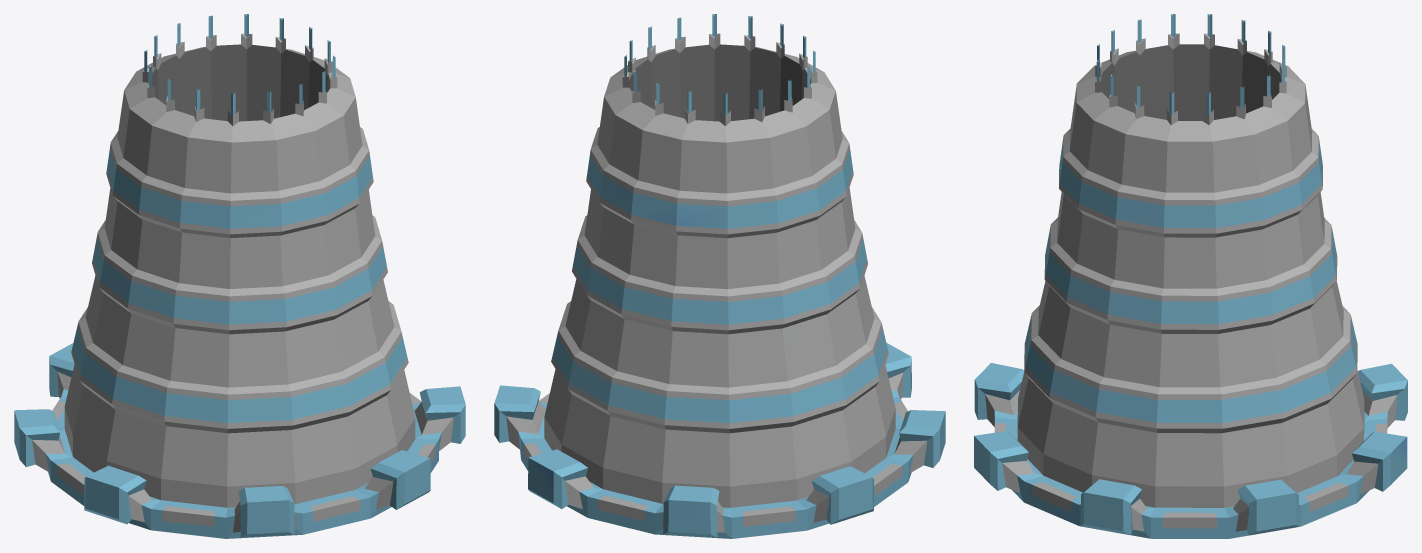
File: MatterFarm_v1.gltf
The picture shows the model from 3 angles, left to right: view 1: azimuth 30°, elevation 25°; view 2: azimuth 150°, elevation 25°; view 3: azimuth 270°, elevation 25°; orthographic projection.
Visible parts, largest first — view 1: GreyWalls, ColoredWalls, BlackHole; view 2: GreyWalls, ColoredWalls, BlackHole; view 3: GreyWalls, ColoredWalls, BlackHole.
Boxes of the visible parts, box(x1,y1,x2,y2) form: GreyWalls: box(32, 33, 453, 532); ColoredWalls: box(14, 14, 465, 538); BlackHole: box(148, 44, 330, 121); GreyWalls: box(506, 33, 927, 532); ColoredWalls: box(494, 14, 945, 538); BlackHole: box(629, 44, 811, 121); GreyWalls: box(985, 33, 1397, 531); ColoredWalls: box(974, 14, 1407, 538); BlackHole: box(1100, 44, 1281, 120).
Bounding box in the file's own units: 0.7735 × 0.7925 × 0.7735.
